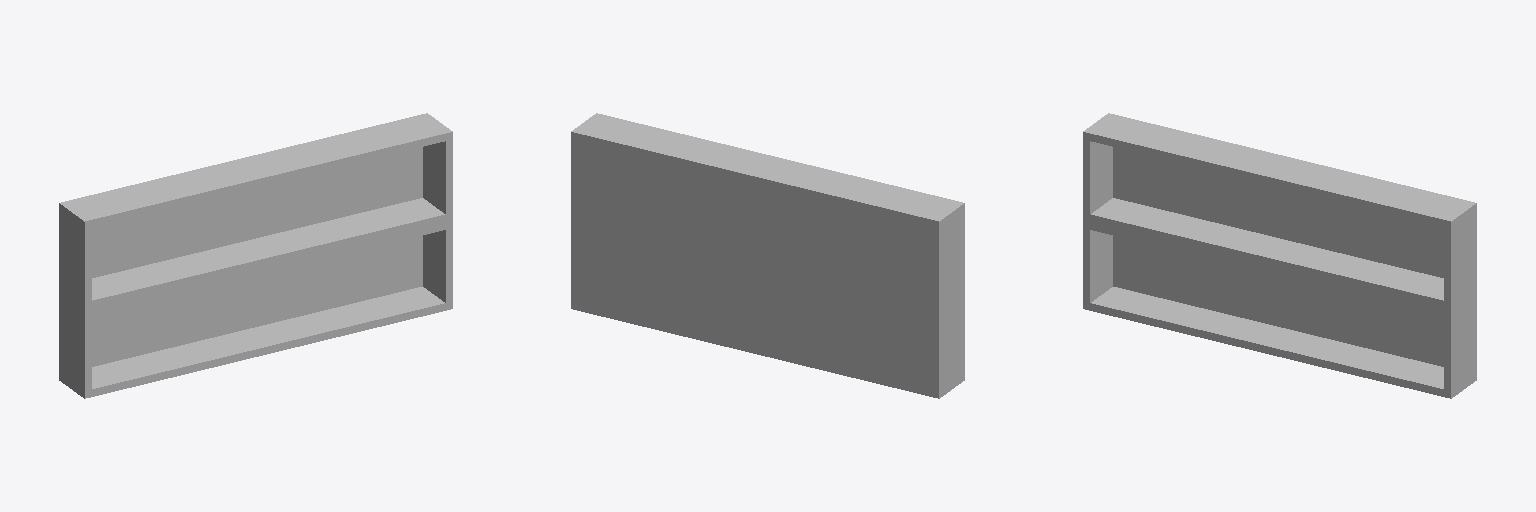
File: GroceryShelf001.obj
The picture shows the model from 3 angles: view 1: azimuth 30°, elevation 25°; view 2: azimuth 150°, elevation 25°; view 3: azimuth 330°, elevation 25°; orthographic projection.
Parts seen in each view (by area): view 1: Shelf001; view 2: Shelf001; view 3: Shelf001.
Part boxes in pixels (x1,y1,x2,y2): Shelf001: (59,113,452,398); Shelf001: (571,113,964,398); Shelf001: (1083,113,1476,398).
Bounding box in the file's own units: 5.13 × 2.36 × 0.6161.